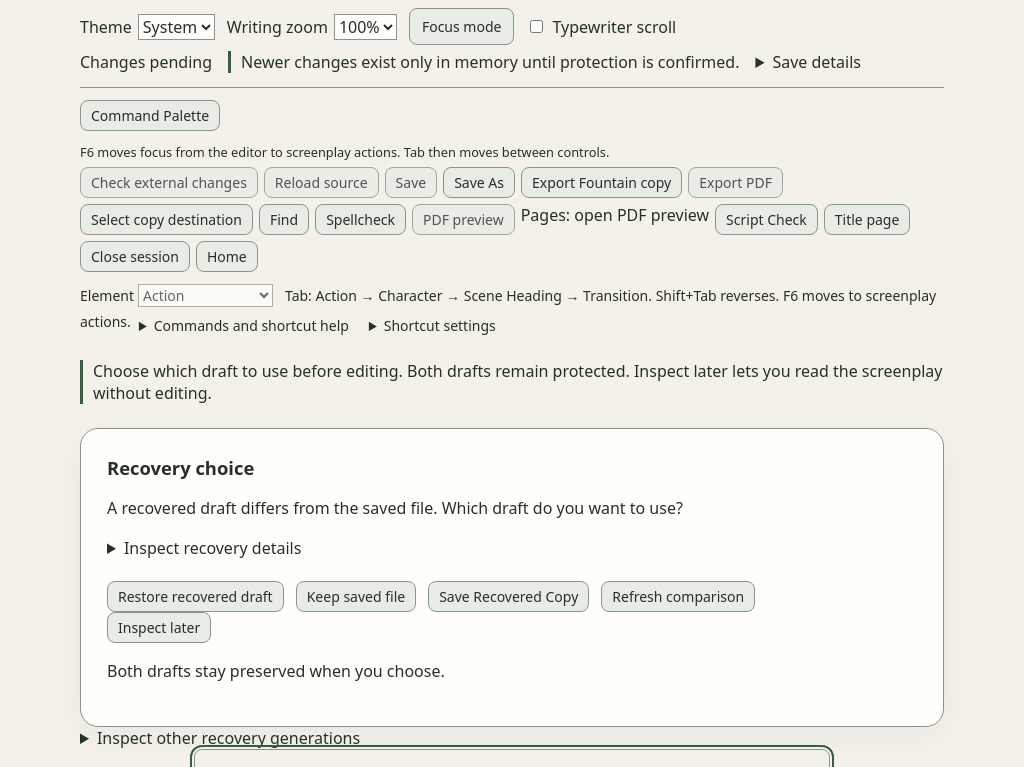
keeps title-page authorship disabled during unresolved recovery review
Expected: the button "Keep saved file" is shown, x1=296 y1=581 x2=416 y2=612
Click the button "Title page": (867, 220) x1=824 y1=204 x2=910 y2=235
(page scrolled)
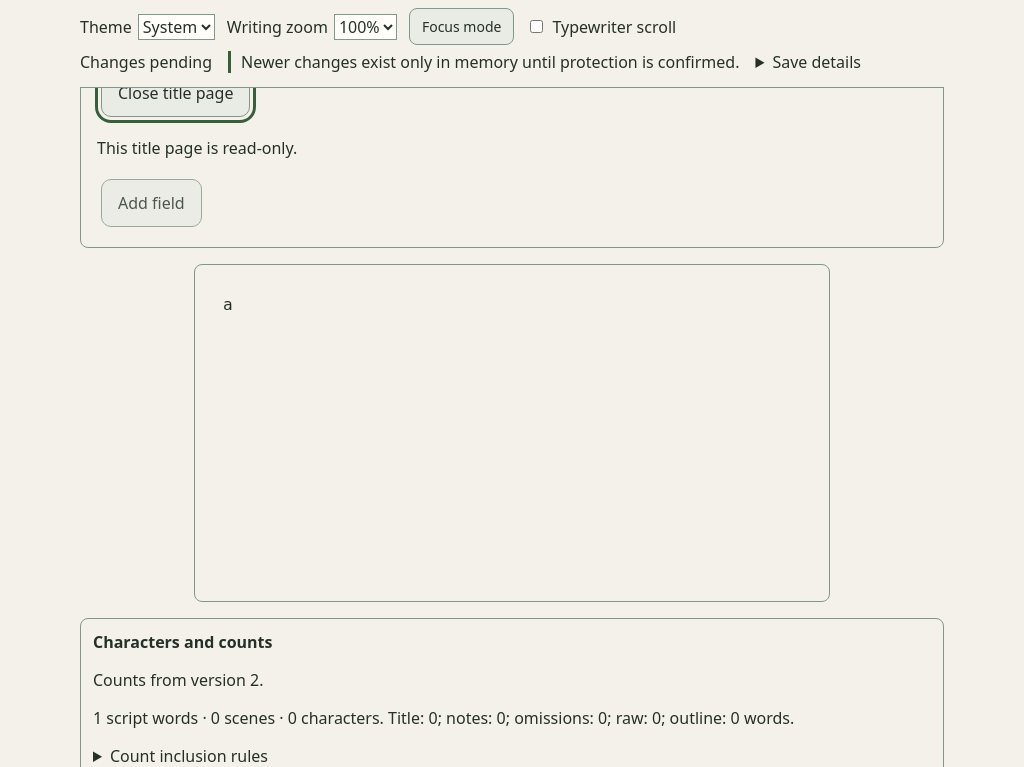
Expected: the button "Add field" is disabled, x1=101 y1=179 x2=202 y2=227
